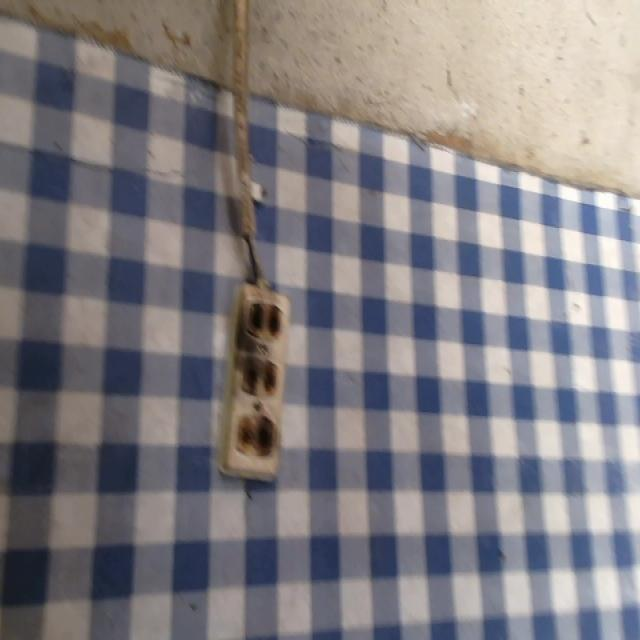-: (233, 296, 283, 460)
